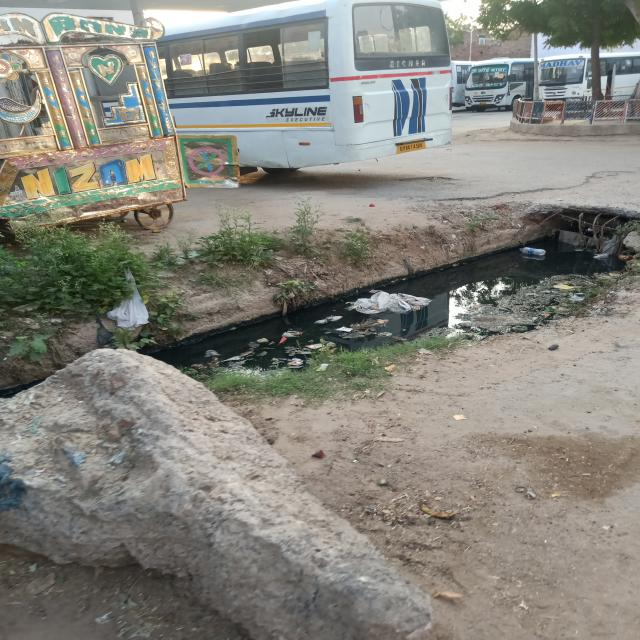Bus: (163, 8, 442, 162)
